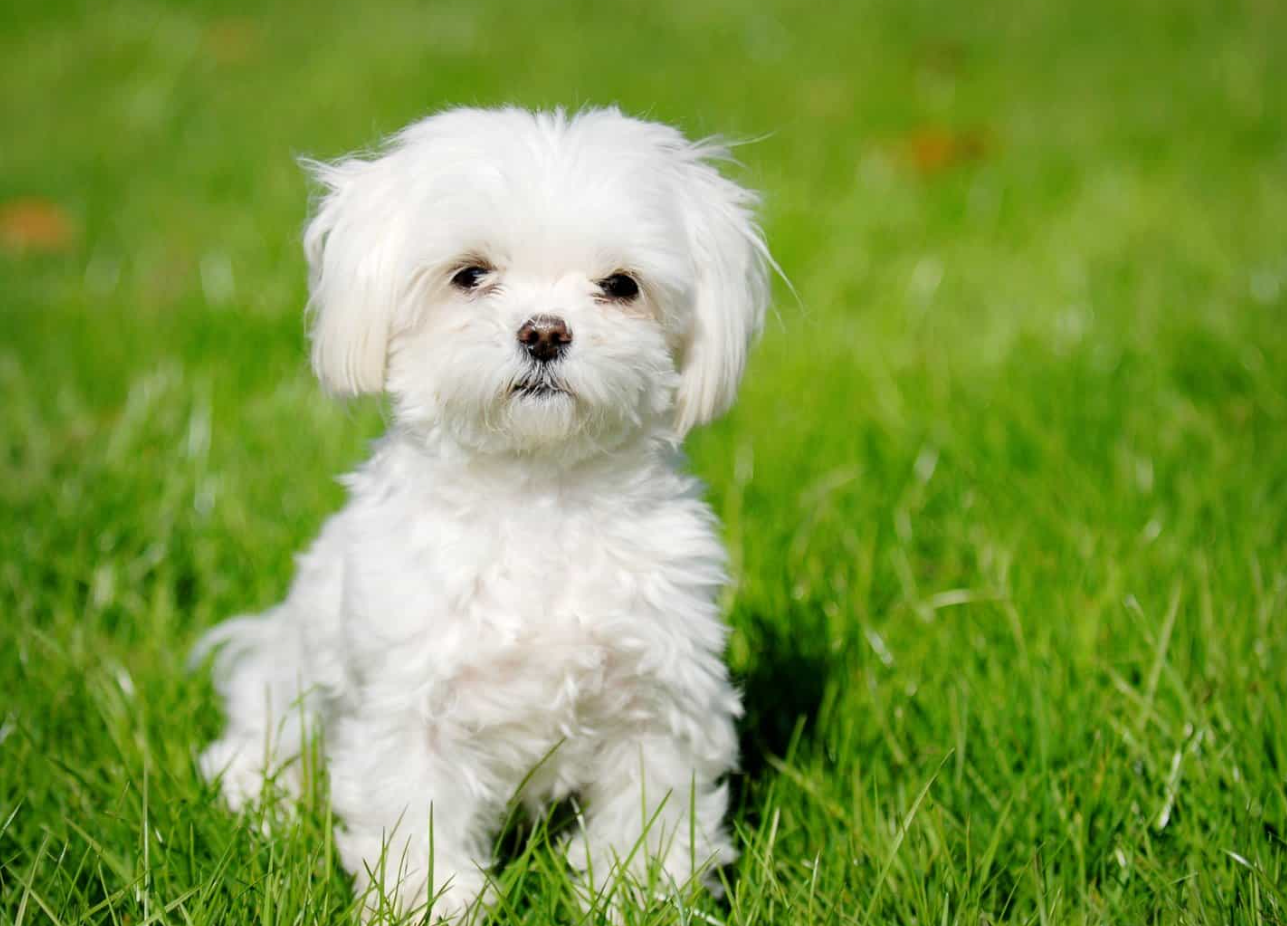perro: (165, 80, 807, 926)
